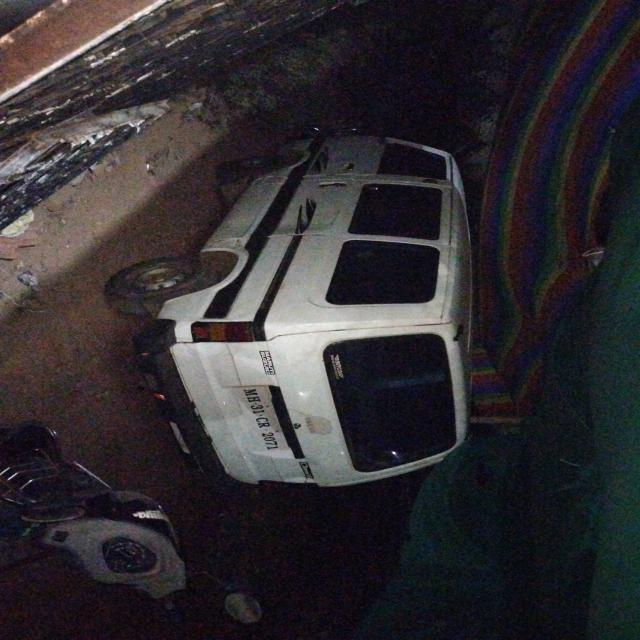Car: (120, 136, 472, 486)
Two Wheeler: (0, 424, 187, 599), (225, 590, 262, 624)
